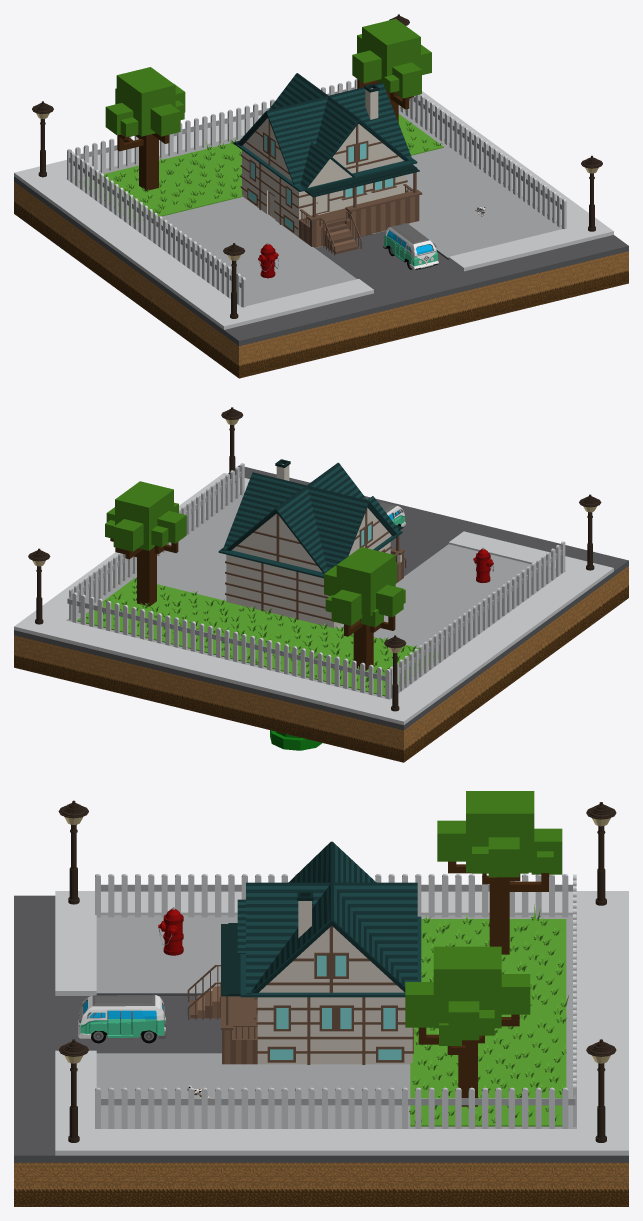
3 renders of one model, top to bottom at view 1: azimuth 30°, elevation 25°; view 2: azimuth 150°, elevation 25°; view 3: azimuth 270°, elevation 25°, orthographic. The views are drawn at different scales.
Visible parts, largest first — view 1: Cube.004, Cube.793, VEHICLES_VAN, OBJRANDOM_FIRE_HYDRANT; view 2: Cube.004, Cube.793, UNDERGROUND_PIPES, OBJRANDOM_FIRE_HYDRANT; view 3: Cube.004, Cube.793, VEHICLES_VAN, OBJRANDOM_FIRE_HYDRANT.
Part boxes in pixels (bbox=[...]): Cube.004: bbox=[14, 14, 628, 378]; Cube.793: bbox=[233, 73, 422, 255]; VEHICLES_VAN: bbox=[383, 223, 438, 270]; OBJRANDOM_FIRE_HYDRANT: bbox=[258, 243, 278, 278]; Cube.004: bbox=[14, 407, 628, 762]; Cube.793: bbox=[218, 459, 406, 627]; UNDERGROUND_PIPES: bbox=[270, 730, 322, 750]; OBJRANDOM_FIRE_HYDRANT: bbox=[473, 547, 493, 582]; Cube.004: bbox=[14, 791, 628, 1206]; Cube.793: bbox=[187, 841, 421, 1064]; VEHICLES_VAN: bbox=[78, 994, 166, 1043]; OBJRANDOM_FIRE_HYDRANT: bbox=[158, 907, 183, 955].
Size of the model in its own units: 4000 by 2184 by 4000.
30 materials, 4 textured.
